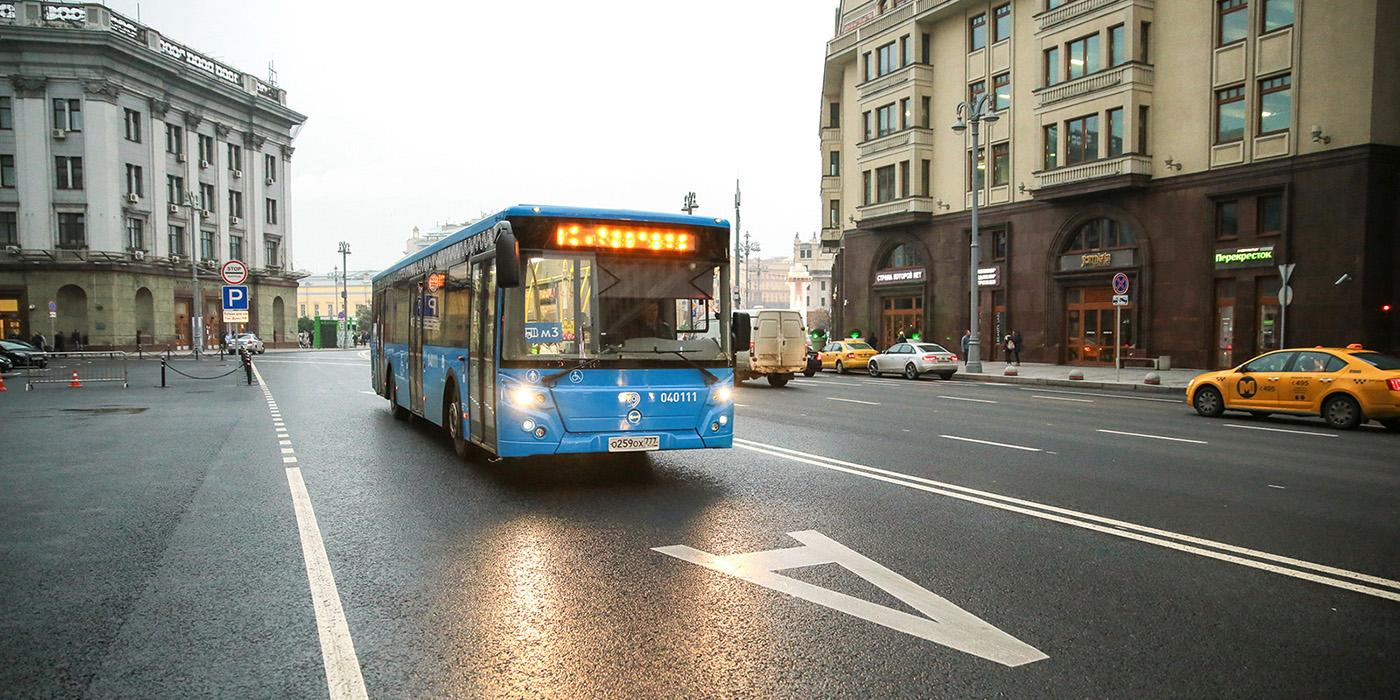bus_line: (254, 364, 1399, 699)
